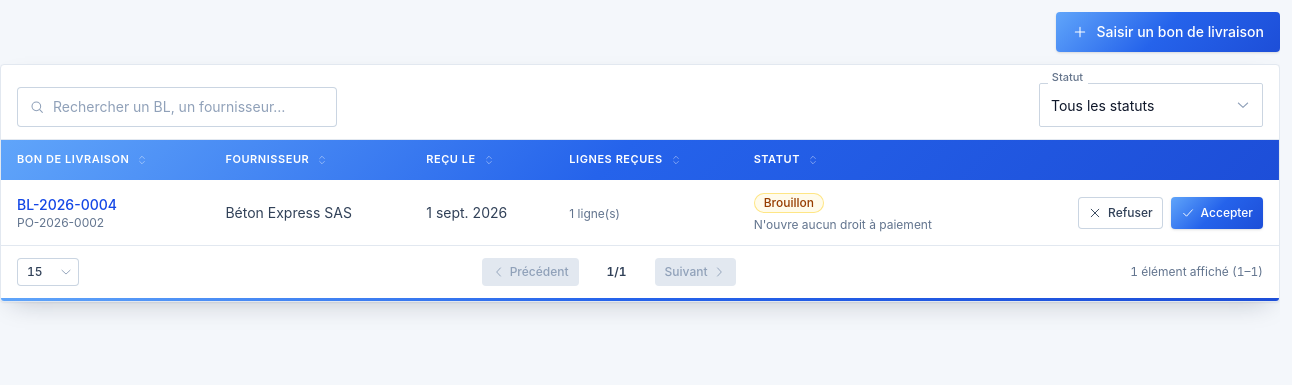
it: DeliveryNoteList › affiche l'erreur métier quand le contrôle est refusé par le backend
Click the button "Accepter". click: coordinates (1217, 213)
box: [1171, 197, 1263, 229]
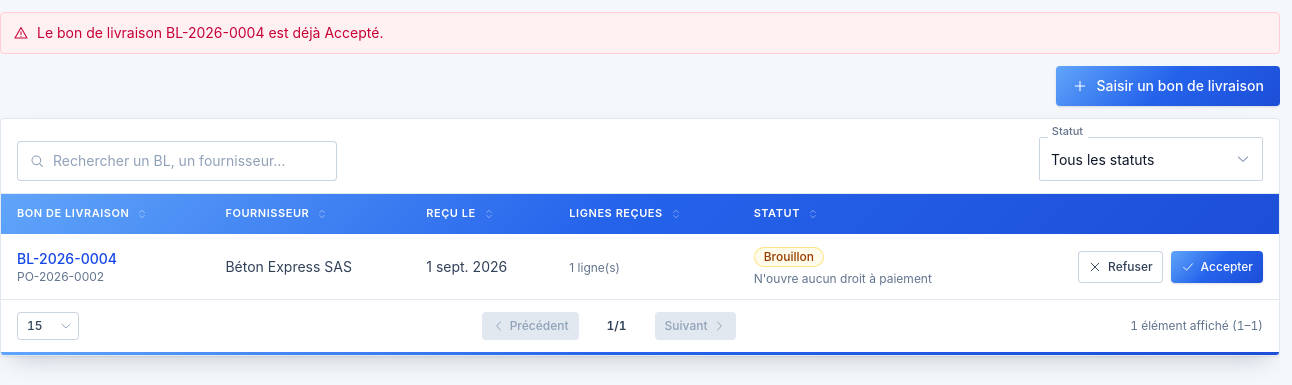
Expected: the message shows "est déjà Accepté", [37, 24, 383, 41]
